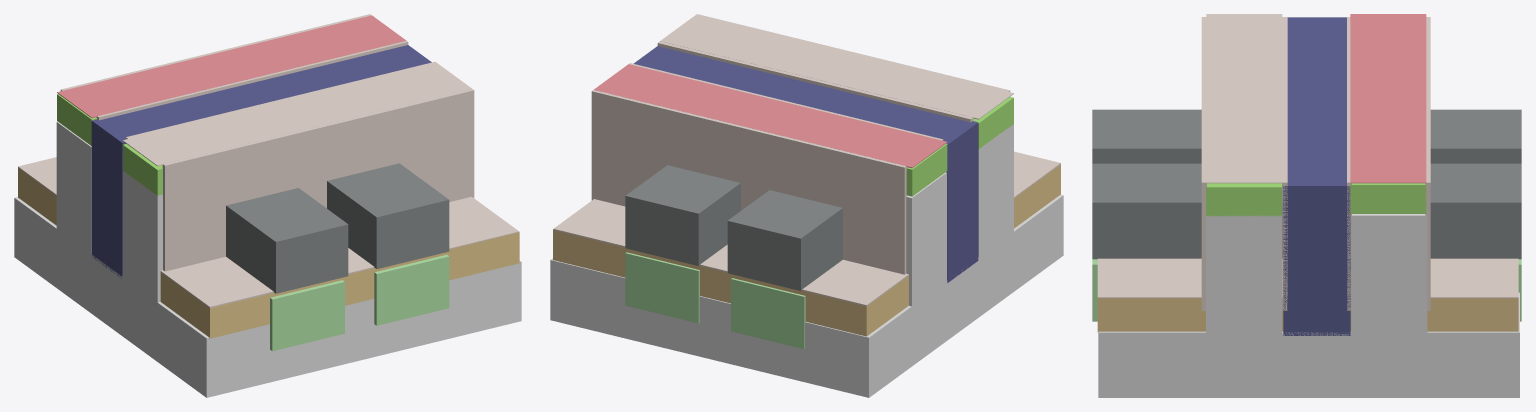
Rendered from finfet_sd.glb.
3 views of the same model, side by side, from view 1: azimuth 30°, elevation 25°; view 2: azimuth 150°, elevation 25°; view 3: azimuth 270°, elevation 25° (orthographic). The views are drawn at different scales.
Parts seen in each view (by area): view 1: Cube, Cube.012, Cube.018, Cube.004, Cube.008, Cube.017, Cube.014, Cube.006, Cube.005, Cube.001, Cube.016, Cube.015 (+6 smaller); view 2: Cube, Cube.013, Cube.018, Cube.008, Cube.004, Cube.017, Cube.014, Cube.006, Cube.005, Cube.002, Cube.016, Cube.015 (+6 smaller); view 3: Cube, Cube.018, Cube.014, Cube.008, Cube.004, Cube.017, Cube.002, Cube.001, Cube.005, Cube.006, Cube.003, Cube.007 (+5 smaller).
Part boxes in pixels (left/top/right/bottom): Cube: left=14, top=197, right=521, bottom=397; Cube.012: left=162, top=89, right=474, bottom=271; Cube.018: left=91, top=45, right=431, bottom=278; Cube.004: left=57, top=15, right=406, bottom=118; Cube.008: left=122, top=63, right=471, bottom=166; Cube.017: left=226, top=188, right=348, bottom=293; Cube.014: left=327, top=163, right=449, bottom=268; Cube.006: left=18, top=167, right=519, bottom=338; Cube.005: left=18, top=157, right=519, bottom=308; Cube.001: left=123, top=170, right=162, bottom=302; Cube.016: left=374, top=254, right=449, bottom=325; Cube.015: left=270, top=280, right=344, bottom=351; Cube: left=550, top=194, right=1063, bottom=397; Cube.013: left=591, top=90, right=907, bottom=274; Cube.018: left=633, top=46, right=978, bottom=282; Cube.008: left=660, top=15, right=1013, bottom=119; Cube.004: left=594, top=64, right=947, bottom=168; Cube.017: left=727, top=190, right=842, bottom=290; Cube.014: left=625, top=165, right=740, bottom=265; Cube.006: left=553, top=165, right=1060, bottom=336; Cube.005: left=553, top=151, right=1060, bottom=306; Cube.002: left=906, top=172, right=946, bottom=306; Cube.016: left=625, top=252, right=699, bottom=323; Cube.015: left=731, top=278, right=805, bottom=349; Cube: left=1098, top=292, right=1519, bottom=397; Cube.018: left=1283, top=17, right=1350, bottom=335; Cube.014: left=1092, top=163, right=1521, bottom=259; Cube.008: left=1206, top=14, right=1282, bottom=183; Cube.004: left=1350, top=14, right=1426, bottom=183; Cube.017: left=1092, top=109, right=1521, bottom=163; Cube.002: left=1351, top=214, right=1427, bottom=341; Cube.001: left=1206, top=215, right=1281, bottom=335; Cube.005: left=1097, top=258, right=1518, bottom=298; Cube.006: left=1097, top=298, right=1518, bottom=332; Cube.003: left=1206, top=183, right=1281, bottom=216; Cube.007: left=1350, top=183, right=1426, bottom=213.
Bounding box in the file's own units: 2.2 × 1.31 × 2.37.
